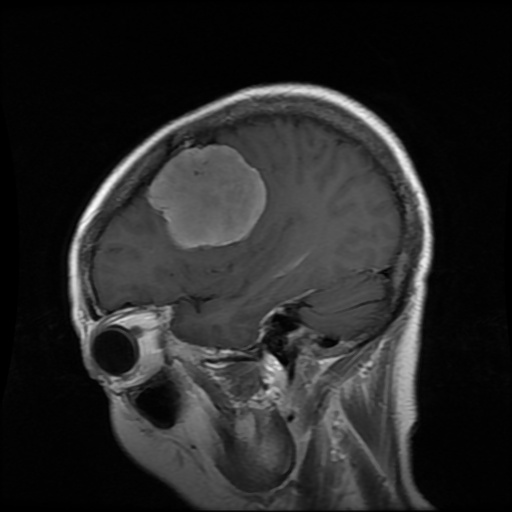meningioma: (147, 143, 267, 249)
